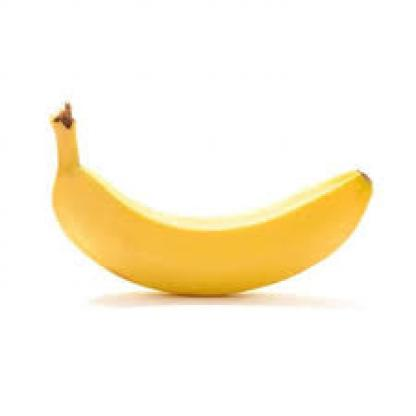Fresh: (26, 48, 394, 368)
